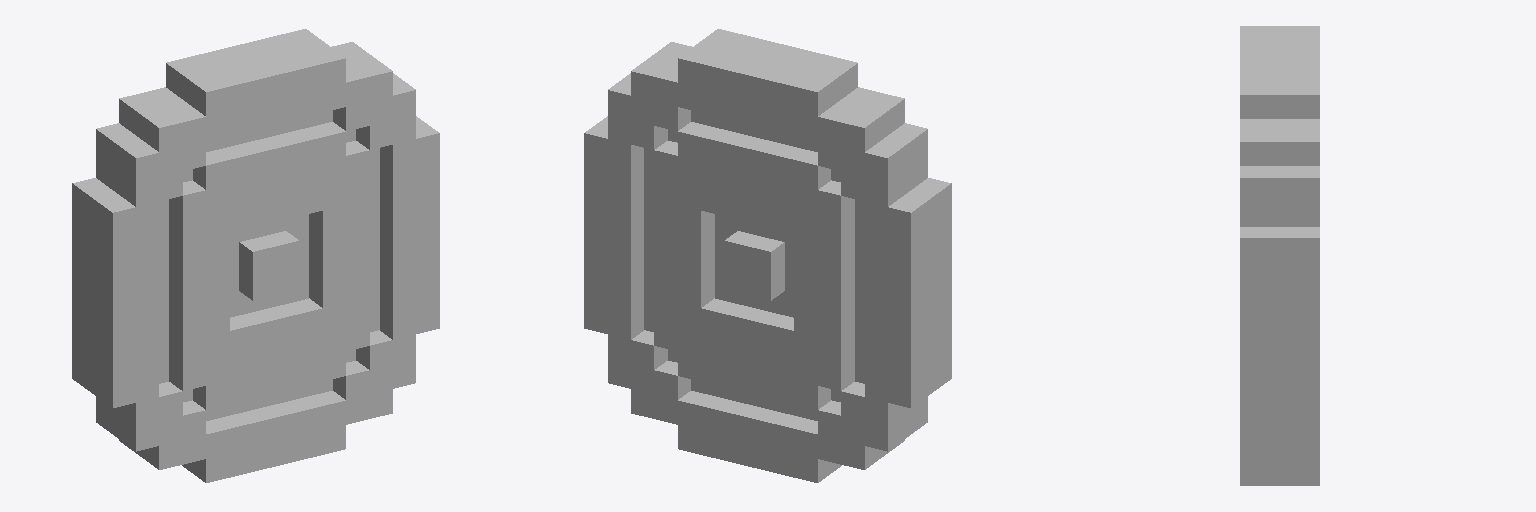
The model's file is coin.obj.
The picture shows the model from 3 angles: view 1: azimuth 30°, elevation 25°; view 2: azimuth 150°, elevation 25°; view 3: azimuth 270°, elevation 25°; orthographic projection.
Visible parts, largest first — view 1: object 1; view 2: object 1; view 3: object 1.
Part boxes in pixels (bbox=[...]): object 1: bbox=[72, 29, 439, 482]; object 1: bbox=[584, 29, 951, 482]; object 1: bbox=[1240, 26, 1319, 485].
Size of the model in its own units: 1.4 by 1.6 by 0.3.